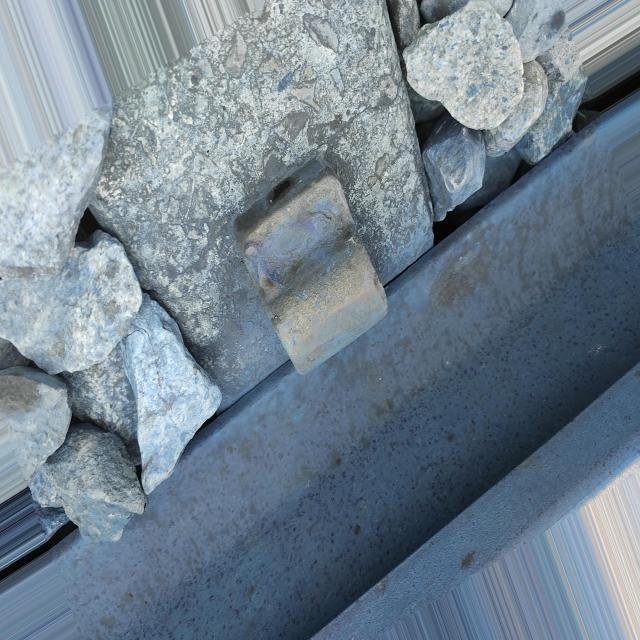Missing Fastener: (173, 118, 475, 470)
